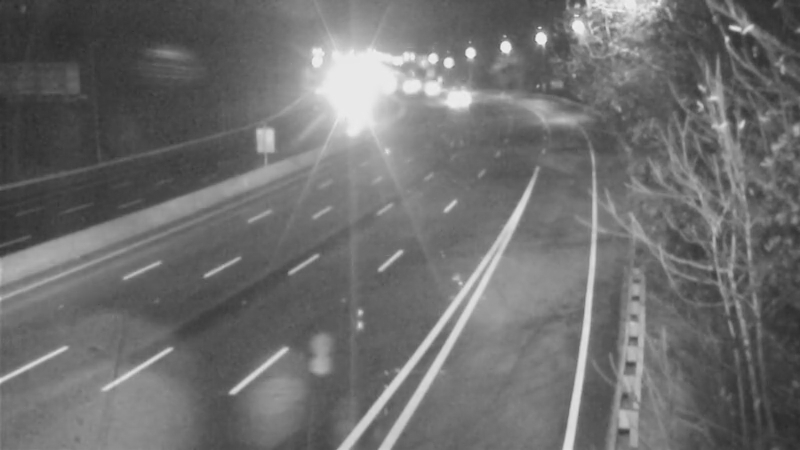vehicle: (405, 64, 455, 114), (434, 71, 484, 121)
